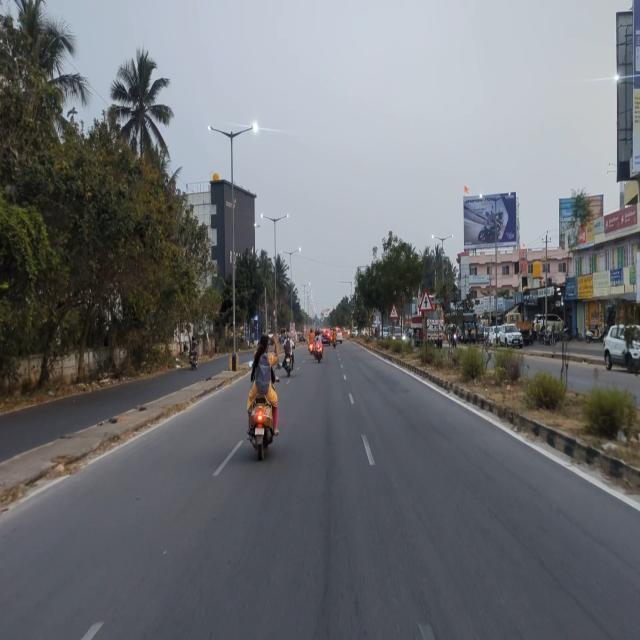bien_cam: (417, 286, 435, 314), (389, 300, 400, 322)
